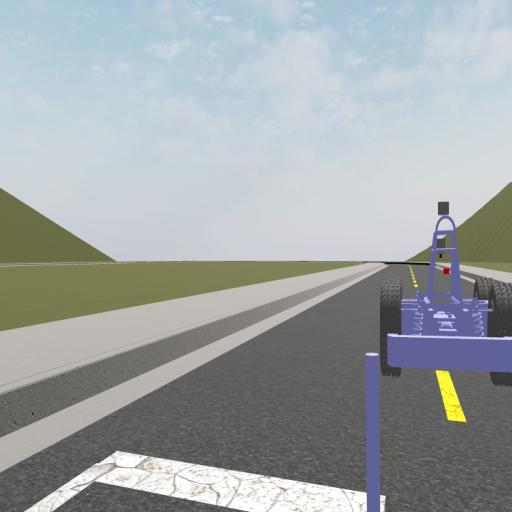ERP-42: (380, 201, 512, 388)
